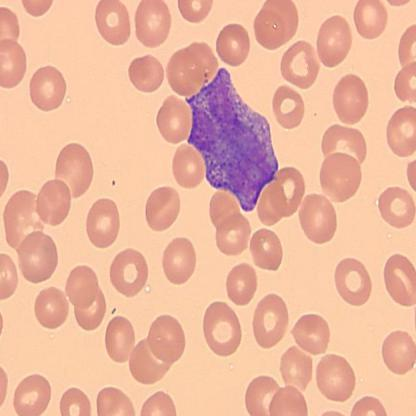Promyelocyte: (186, 69, 280, 213)
